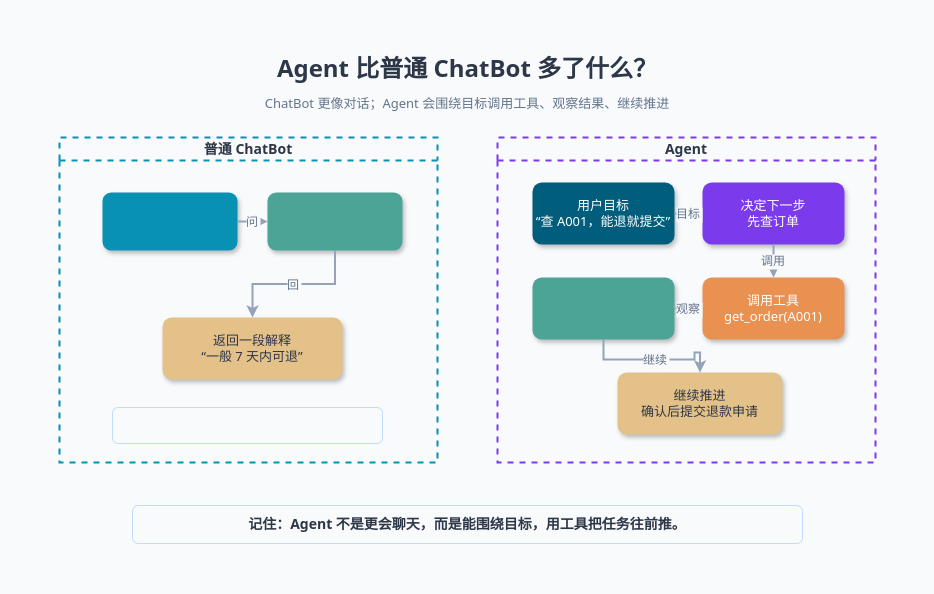
Some shapes in this 934 by 594 pixel diagram are drawn without their labels. Each missing label, with the centre of its shape:
"ChatBot 根据上下文回答" belongs at (335,222).
"用户提问 “能退款吗？”" belongs at (170,222).
"观察结果 未开票，3 天前购买" belongs at (604,309).
"重点：主要在“回答问题”这一层" belongs at (247,425).
